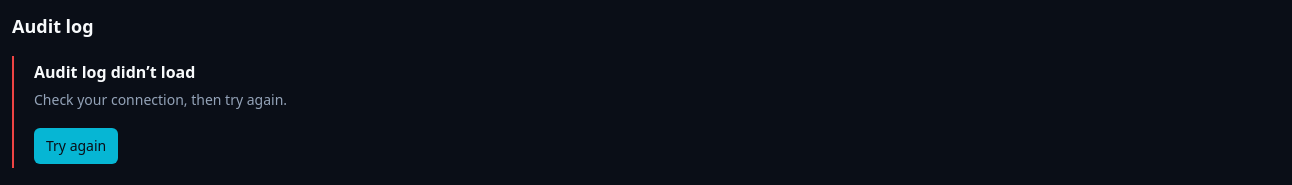
Test: AuditLogPage › offers a retry when events fail to load
The image size is (1292, 185).
Click the button "Try again" at point(76, 146), box [34, 128, 118, 164]
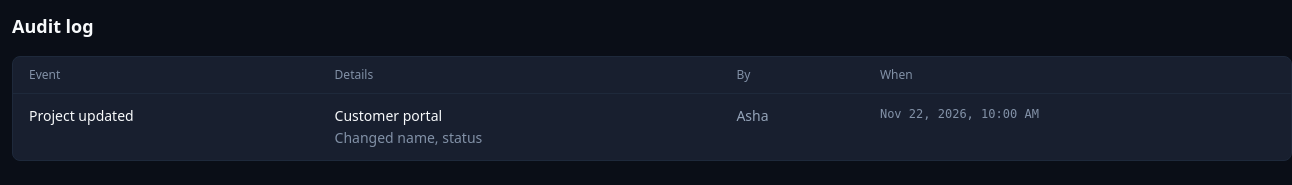
Expected: the text "Project updated" is shown, [13, 94, 319, 160]
